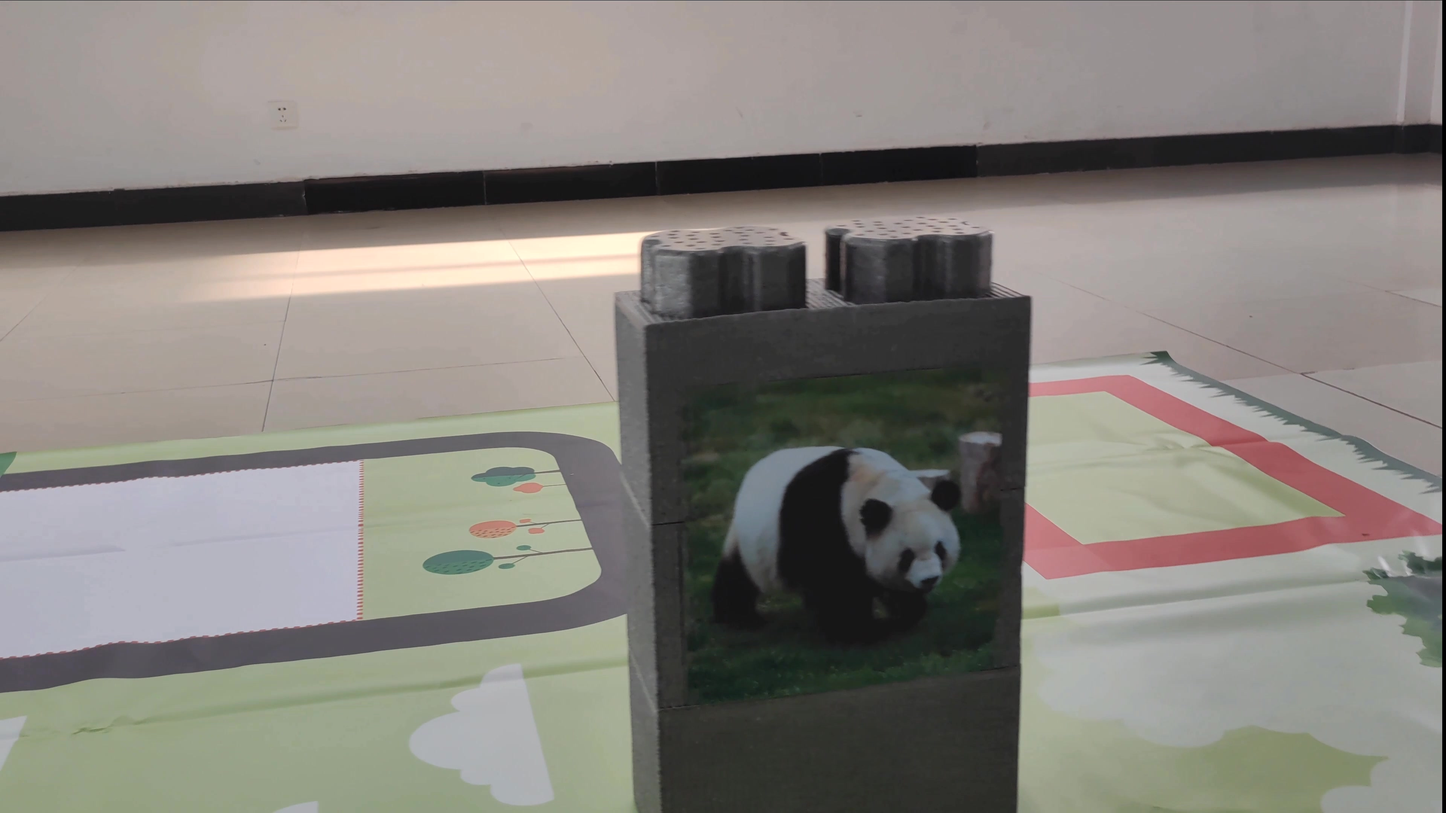panda: (680, 426, 978, 651)
